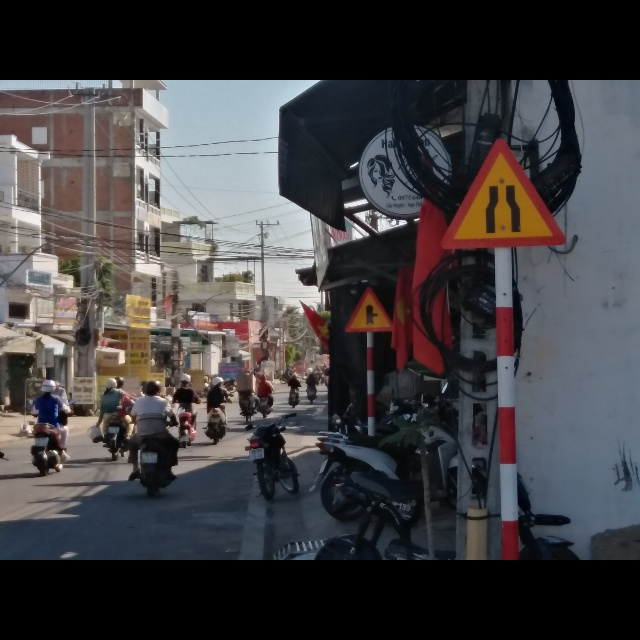Giao nhau với đường không ưu tiên: (344, 285, 394, 335)
Đường bị hẹp cả hai bên: (439, 138, 569, 252)
